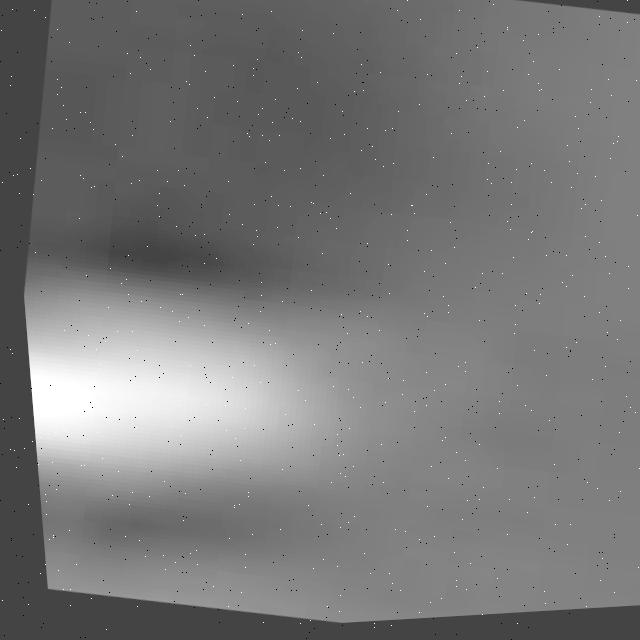person: (21, 290, 412, 563)
